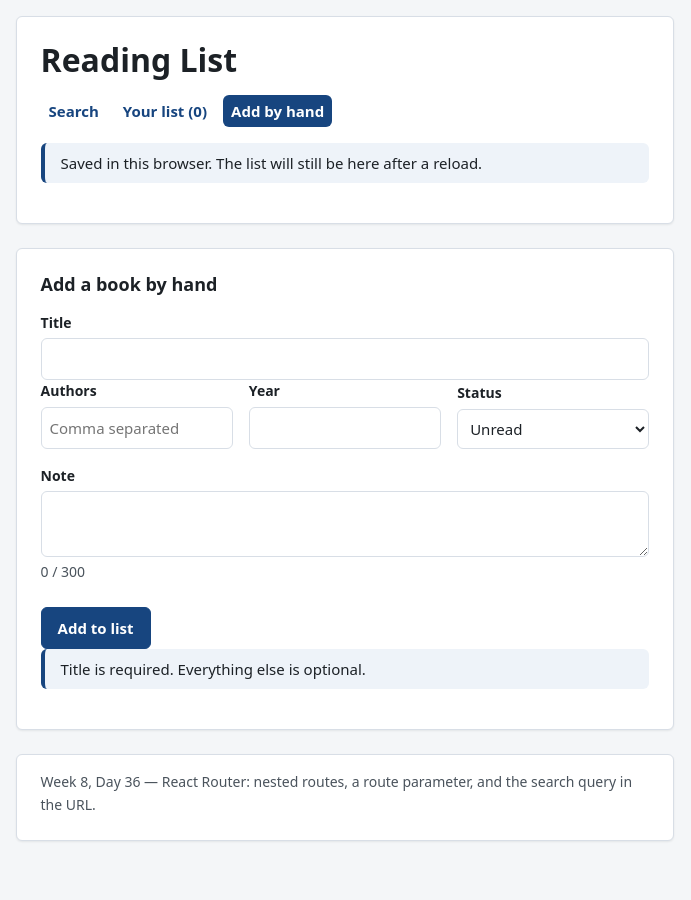
Test: the form's error summary › counts the problems and lists them
The width and height of the screenshot is (691, 900).
Type "1200" into the number field labelled "Year".
click(345, 428); type("1200")  # box [249,407,441,449]
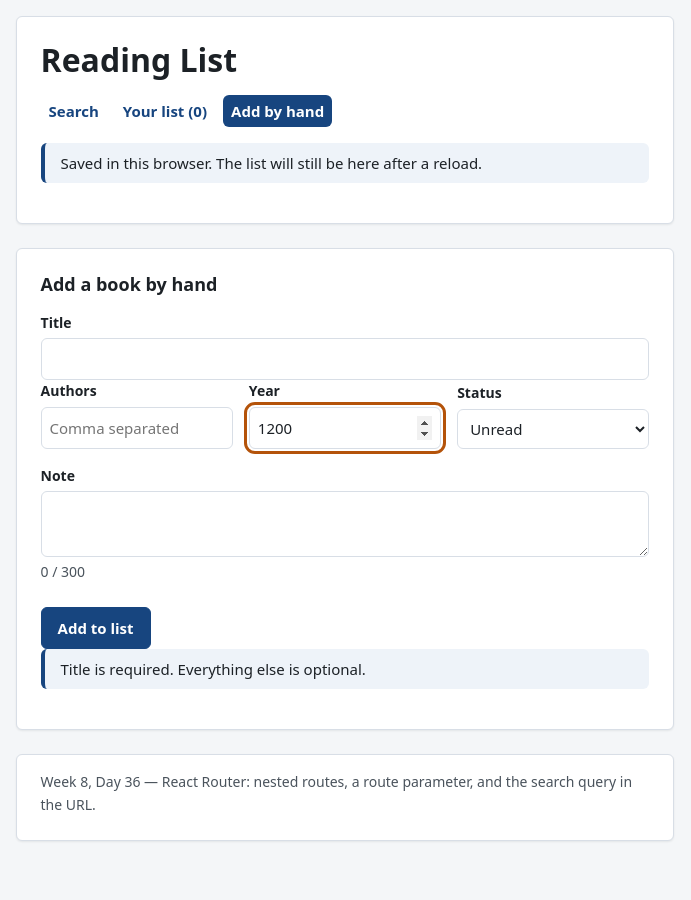
Click the button "Add to list".
click(96, 628)  # box [40,608,151,650]
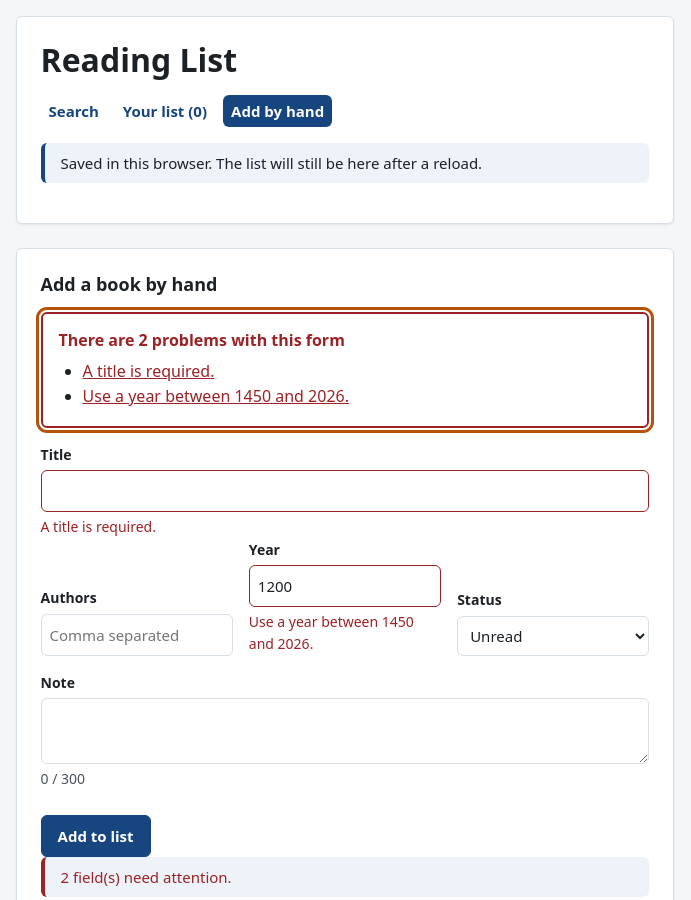
Check: the heading "There are 2 problems with this form" is shown, box [58,329,345,351]
